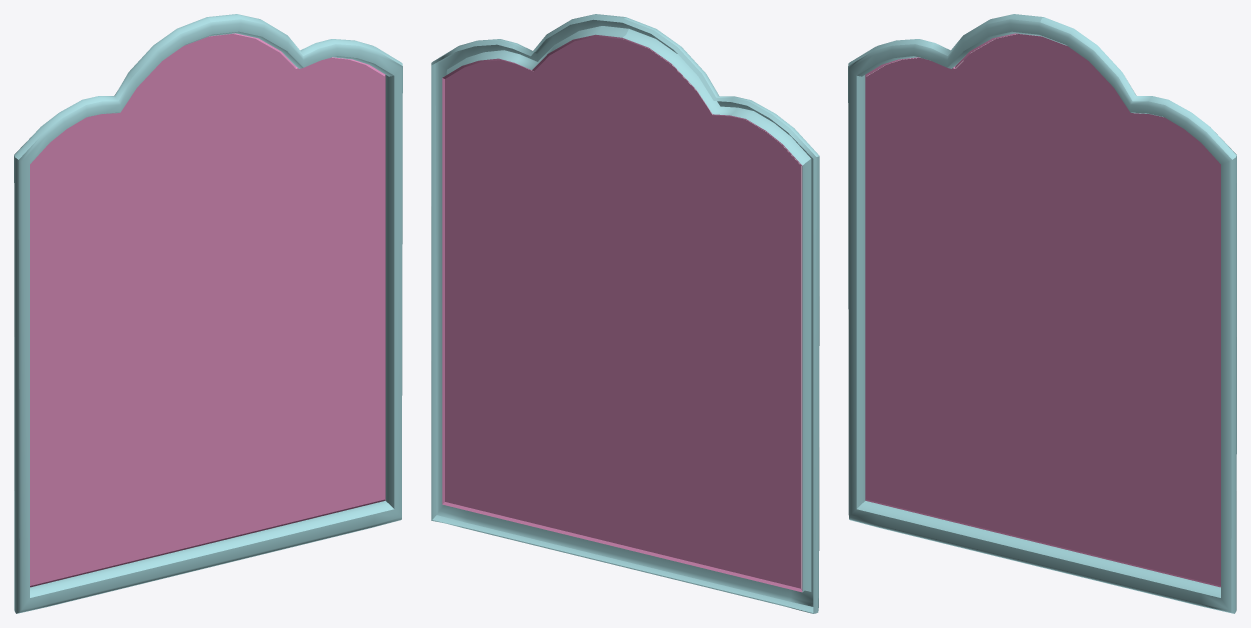
The model's file is Friday_OwnersSuite_BedroomMirror.fbx.
The picture shows the model from 3 angles, left to right: view 1: azimuth 30°, elevation 25°; view 2: azimuth 150°, elevation 25°; view 3: azimuth 330°, elevation 25°; orthographic projection.
Parts seen in each view (by area): view 1: Mirror, Frame; view 2: Mirror, Frame; view 3: Mirror, Frame.
Part boxes in pixels (x1,y1,x2,y2): Mirror: (30,34,384,585); Frame: (14,14,402,613); Mirror: (445,36,801,588); Frame: (431,14,819,613); Mirror: (866,34,1220,585); Frame: (848,14,1236,613).
Bounding box in the file's own units: 192 × 261 × 5.9.
